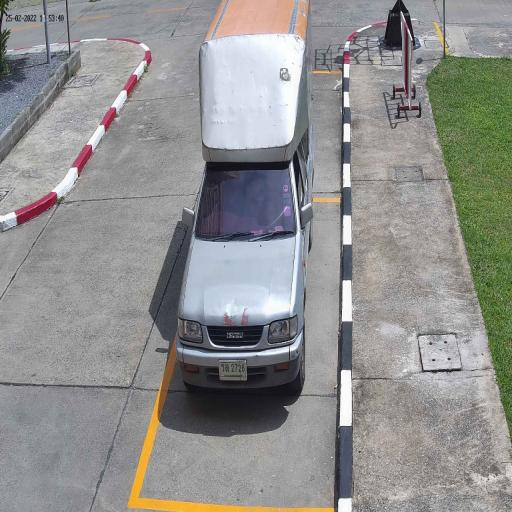car: (174, 0, 316, 402)
